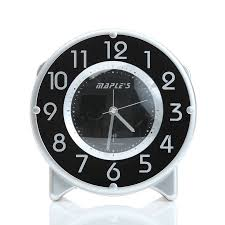alarm_clock: (29, 30, 196, 201), (29, 36, 196, 201)
